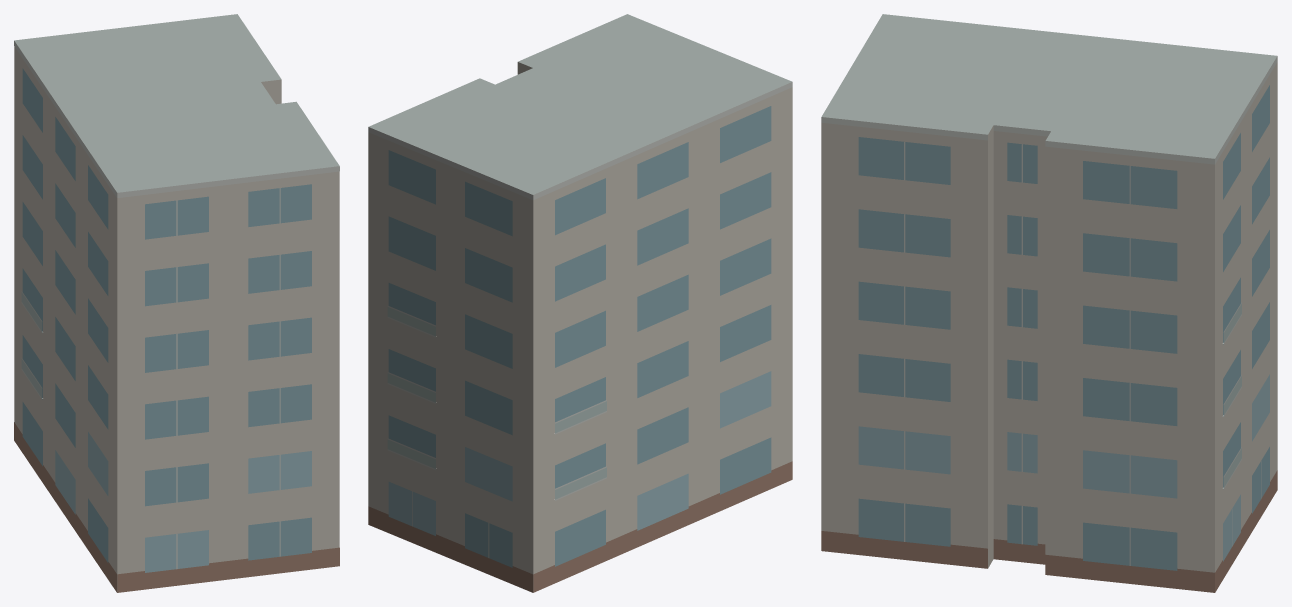
File: survey-upis-32870202.glb
3 views of the same model, side by side, from view 1: azimuth 30°, elevation 25°; view 2: azimuth 150°, elevation 25°; view 3: azimuth 270°, elevation 25° (orthographic). The views are drawn at different scales.
Parts seen in each view (by area): view 1: survey-upis-32870202.tmp; view 2: survey-upis-32870202.tmp; view 3: survey-upis-32870202.tmp.
Boxes of the visible parts, <box> form: survey-upis-32870202.tmp: <box>14,14,339,592</box>; survey-upis-32870202.tmp: <box>368,14,792,592</box>; survey-upis-32870202.tmp: <box>821,14,1277,592</box>.
Size of the model in its own units: 13.1 by 18.3 by 17.44.
